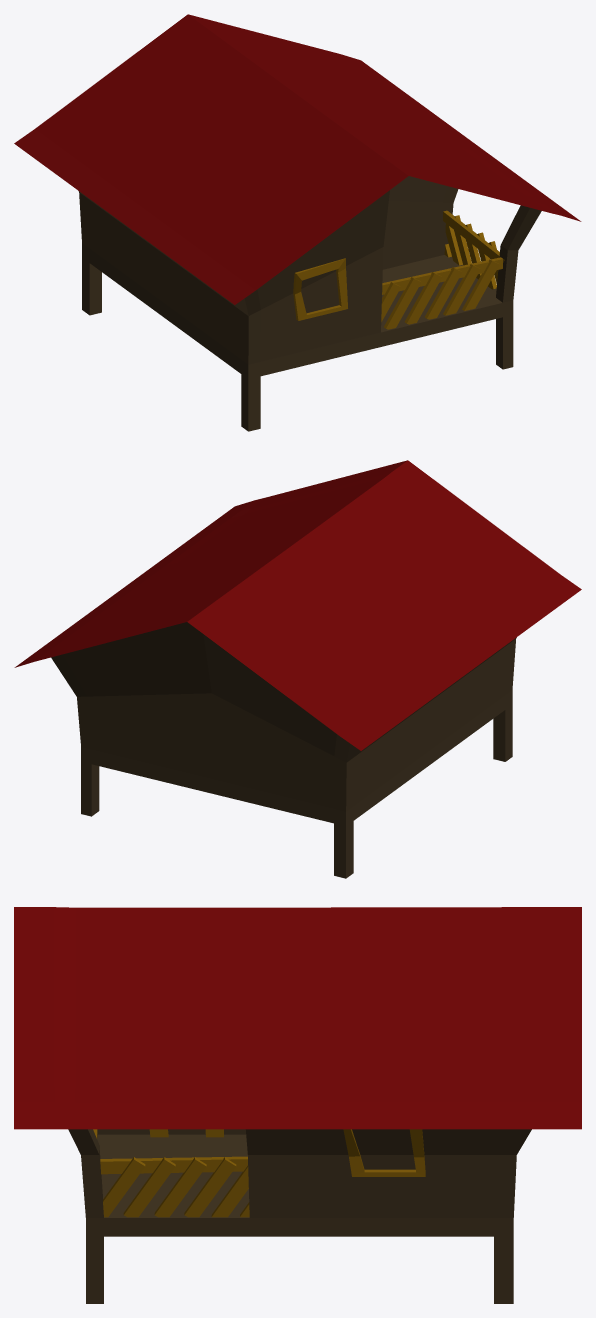
File: casa1-0-1.fbx
The picture shows the model from 3 angles, top to bottom: view 1: azimuth 30°, elevation 25°; view 2: azimuth 150°, elevation 25°; view 3: azimuth 270°, elevation 25°; orthographic projection. The views are drawn at different scales.
Parts seen in each view (by area): view 1: Cube; view 2: Cube; view 3: Cube.
Part boxes in pixels (<box>): Cube: <box>14,14,581,431</box>; Cube: <box>14,460,581,878</box>; Cube: <box>14,907,581,1303</box>.
Bounding box in the file's own units: 1136 × 763 × 1252.
